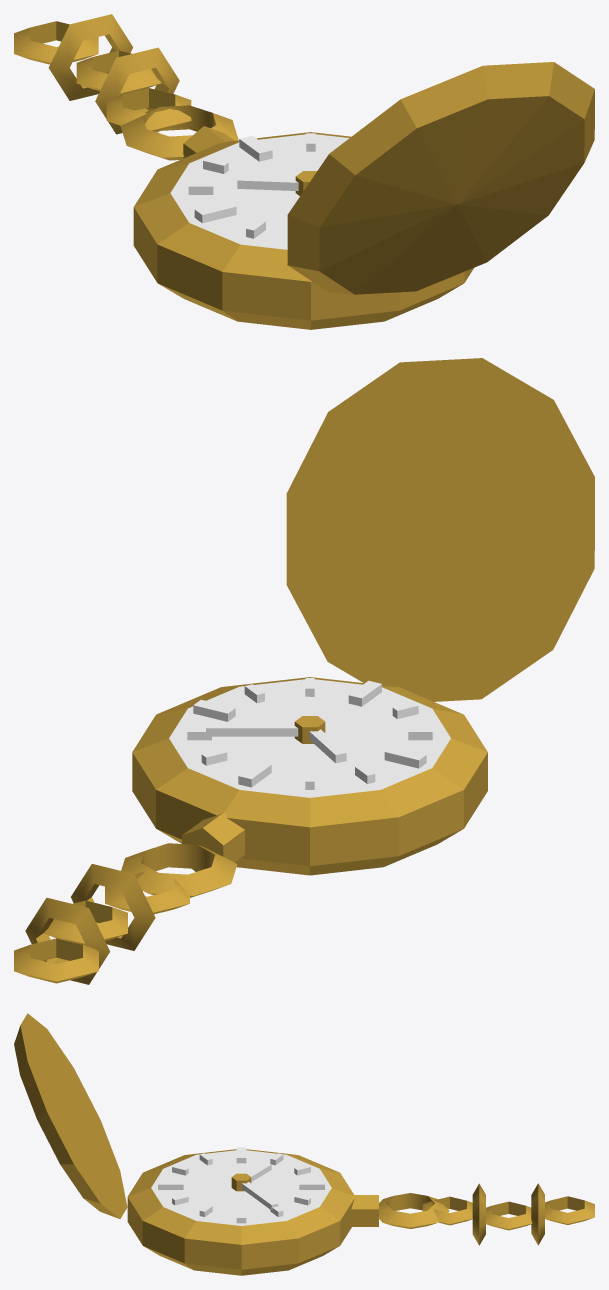
Rendered from pocket_watch.glb.
3 renders of one model, top to bottom at view 1: azimuth 30°, elevation 25°; view 2: azimuth 150°, elevation 25°; view 3: azimuth 270°, elevation 25°, orthographic. The views are drawn at different scales.
Visible parts, largest first — view 1: PocketWatch; view 2: PocketWatch; view 3: PocketWatch.
Part boxes in pixels (bbox=[...]): PocketWatch: bbox=[14, 14, 594, 329]; PocketWatch: bbox=[14, 358, 594, 984]; PocketWatch: bbox=[14, 1013, 594, 1275].
Bounding box in the file's own units: 0.116 × 0.1184 × 0.2956.
